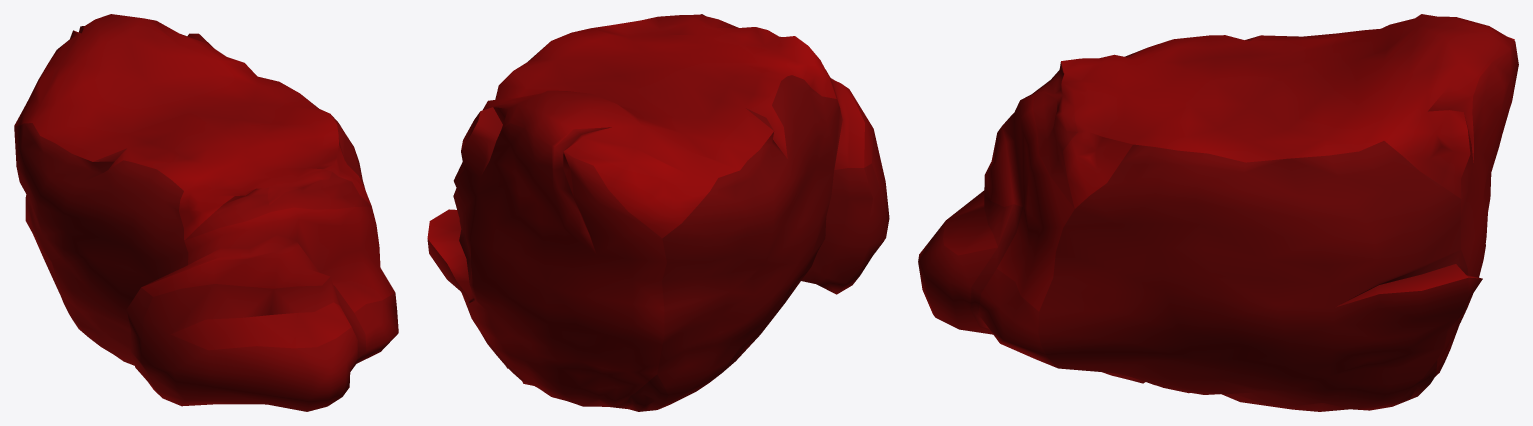
The model's file is geology-rocks-rockhuge_v2.fbx.
3 views of the same model, side by side, from view 1: azimuth 30°, elevation 25°; view 2: azimuth 150°, elevation 25°; view 3: azimuth 270°, elevation 25° (orthographic). The views are drawn at different scales.
Visible parts, largest first — view 1: RockHuge_v2; view 2: RockHuge_v2; view 3: RockHuge_v2.
Part boxes in pixels (box(x1,y1,x2,y2)): RockHuge_v2: box(14, 14, 398, 411); RockHuge_v2: box(427, 14, 889, 411); RockHuge_v2: box(918, 14, 1518, 411).
Size of the model in its own units: 18.84 by 19.46 by 29.77.
